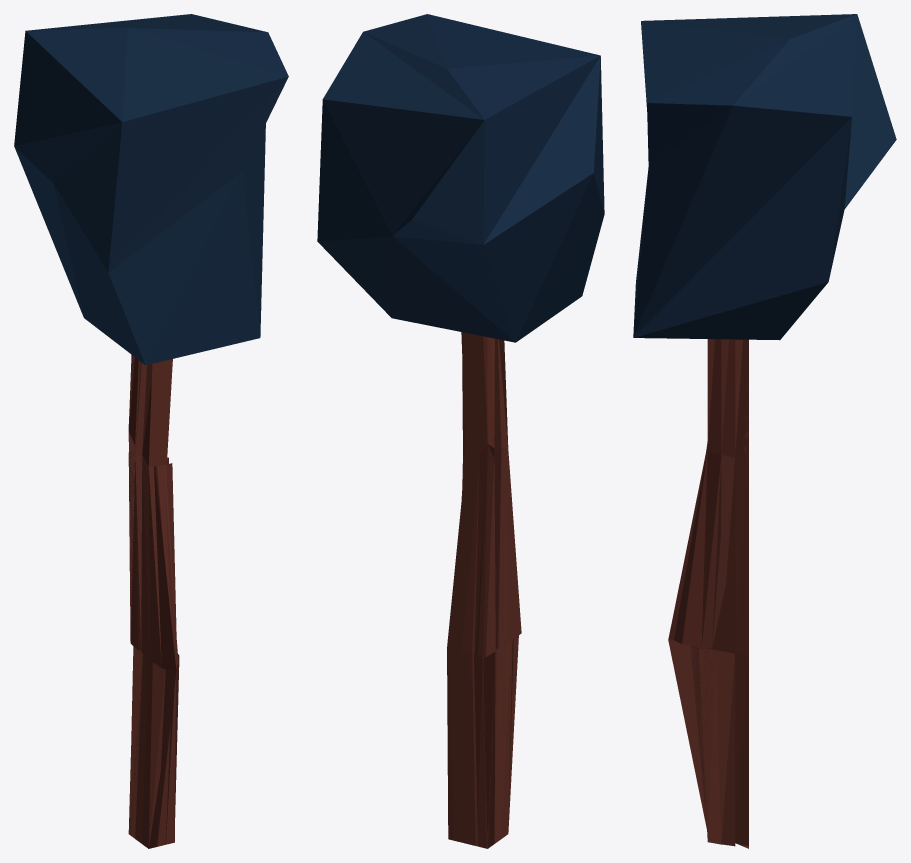
The model's file is island2_tree4.obj.
The picture shows the model from 3 angles, left to right: view 1: azimuth 30°, elevation 25°; view 2: azimuth 150°, elevation 25°; view 3: azimuth 270°, elevation 25°; orthographic projection.
Parts seen in each view (by area): view 1: Cube.011_Cube.014, Cube.000_Cube.013; view 2: Cube.011_Cube.014, Cube.000_Cube.013; view 3: Cube.011_Cube.014, Cube.000_Cube.013.
Part boxes in pixels (<box>): Cube.011_Cube.014: <box>14,14,288,365</box>; Cube.000_Cube.013: <box>128,354,179,848</box>; Cube.011_Cube.014: <box>317,14,604,342</box>; Cube.000_Cube.013: <box>447,332,521,848</box>; Cube.011_Cube.014: <box>633,14,896,340</box>; Cube.000_Cube.013: <box>668,339,748,848</box>.
Size of the model in its own units: 3.33 by 11.26 by 3.36.
